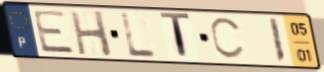C: (208, 16, 247, 62)
E: (30, 9, 78, 55)
H: (67, 9, 116, 59)
I: (266, 17, 288, 65)
L: (119, 11, 160, 60)
T: (158, 11, 193, 63)
